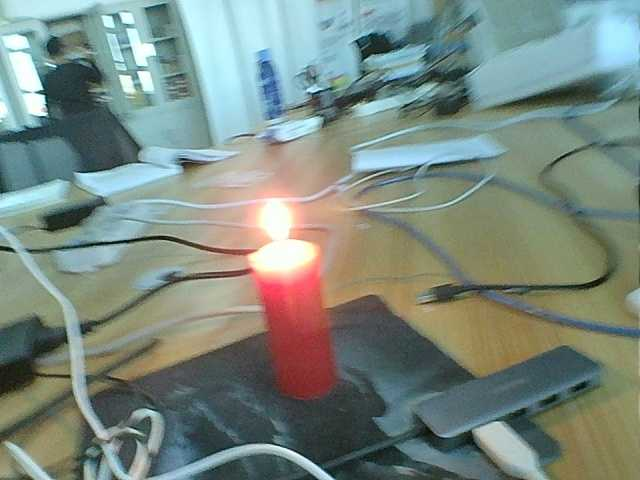candle: (253, 273, 339, 399)
fire: (240, 199, 314, 268)
